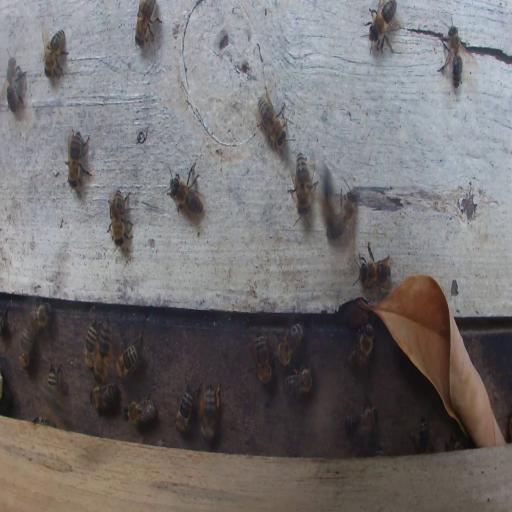nonpollenbee: (256, 87, 288, 158), (166, 164, 203, 224), (289, 152, 316, 222), (366, 0, 398, 57), (439, 18, 464, 88), (354, 244, 392, 289), (66, 128, 92, 192), (107, 188, 133, 245), (346, 322, 374, 374), (42, 26, 68, 80), (346, 394, 378, 436), (275, 322, 304, 368), (116, 330, 142, 381), (4, 51, 26, 111), (134, 0, 160, 50), (334, 186, 356, 238), (124, 394, 157, 426), (283, 364, 314, 398), (253, 331, 272, 385), (174, 383, 193, 434), (90, 382, 118, 413), (410, 416, 432, 454), (30, 302, 54, 332), (84, 322, 98, 370), (19, 325, 32, 371)
pollenbee: (90, 310, 116, 383), (199, 382, 221, 442)
